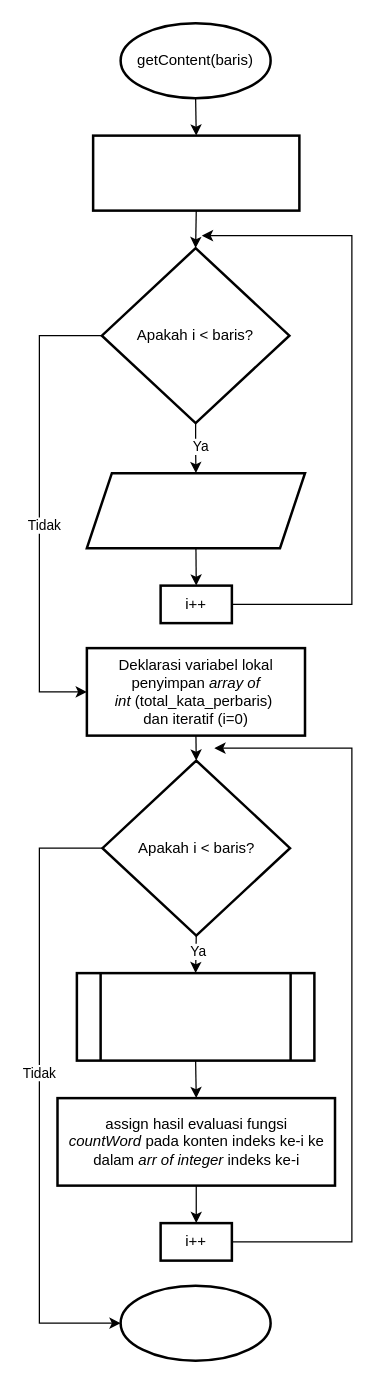
Some shapes in this 384 by 1383 pixel diagram are drawn without their labels. The centre of each missing label's shape, as x and y in pixels:
countWord(konten[i]): the point at 195,1016
Deklarasi variabel lokal penyimpan array of strings (konten) dan iteratif (i=0): the point at 195,172
input konten indeks ke-i: the point at 195,510
return total_kata_perbaris: the point at 195,1322
